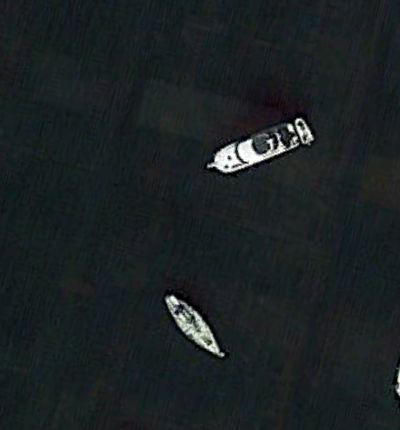boat: (205, 118, 314, 175), (163, 292, 225, 360)
